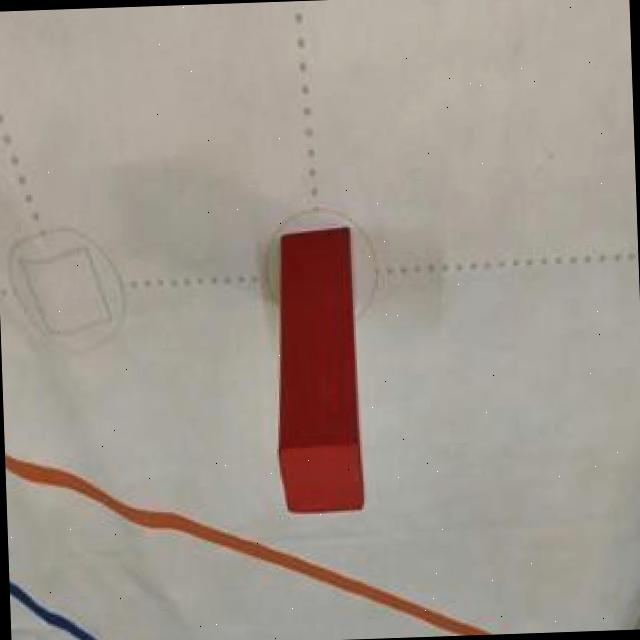redbox: (268, 225, 368, 518)
